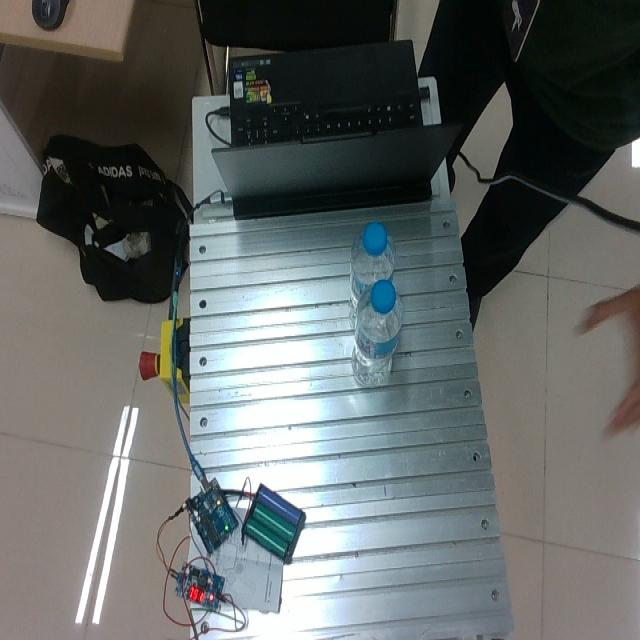lavie: (350, 277, 402, 387), (348, 222, 395, 326)
